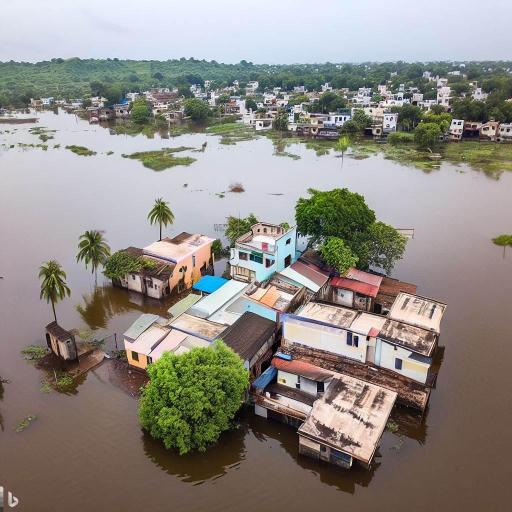flood: (0, 112, 512, 512), (19, 174, 448, 474)
house: (281, 302, 439, 384), (284, 371, 408, 474), (127, 230, 220, 297), (212, 311, 276, 377), (230, 222, 290, 276), (122, 310, 172, 370), (332, 265, 384, 311), (47, 320, 83, 366), (321, 112, 346, 128), (449, 118, 467, 140), (380, 113, 399, 133), (480, 120, 498, 138), (253, 117, 274, 132), (153, 100, 170, 115), (499, 123, 512, 139)
